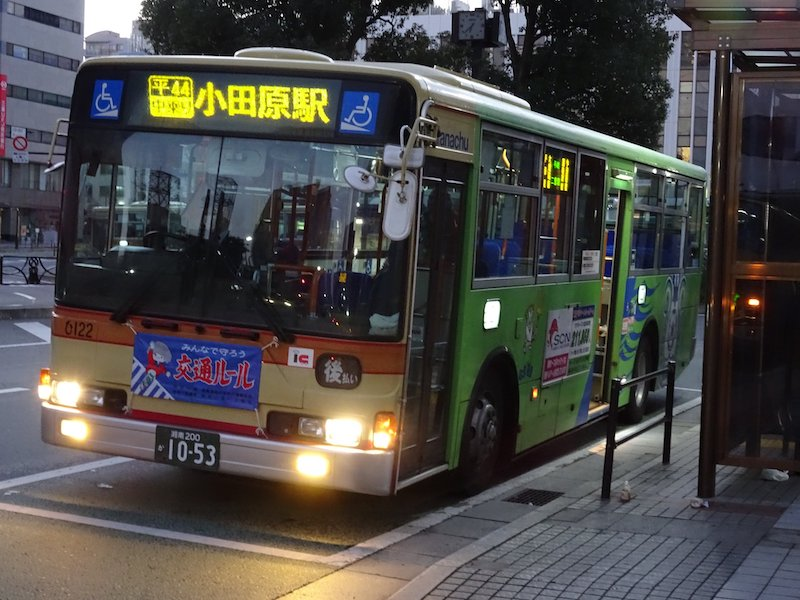destination: (126, 70, 339, 138)
